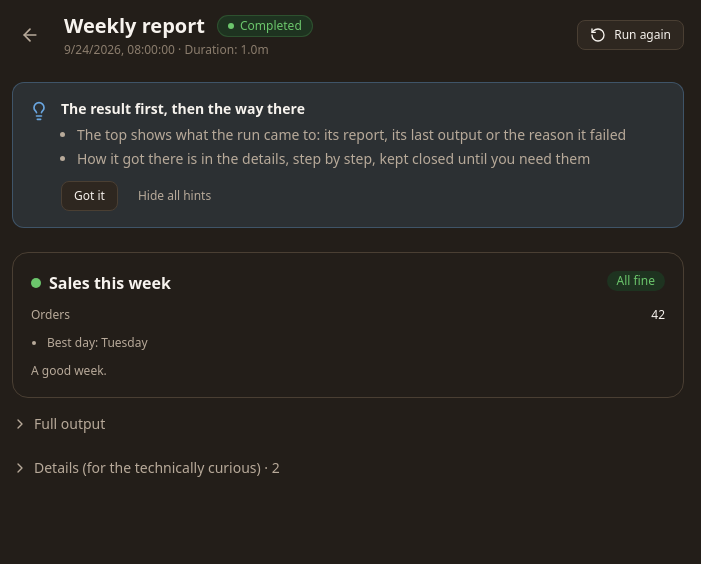
Test: SimpleWorkflowExecution › shows the report with a translated status and keeps the steps collapsed
The width and height of the screenshot is (701, 564).
Expected: the text "Sales this week" is shown, top-left (31, 271), bottom-right (171, 295)
Expected: the text "All fine" is shown, top-left (607, 271), bottom-right (665, 291)
Click the button "Full output". click: (59, 424)
box: top-left (12, 414), bottom-right (105, 434)
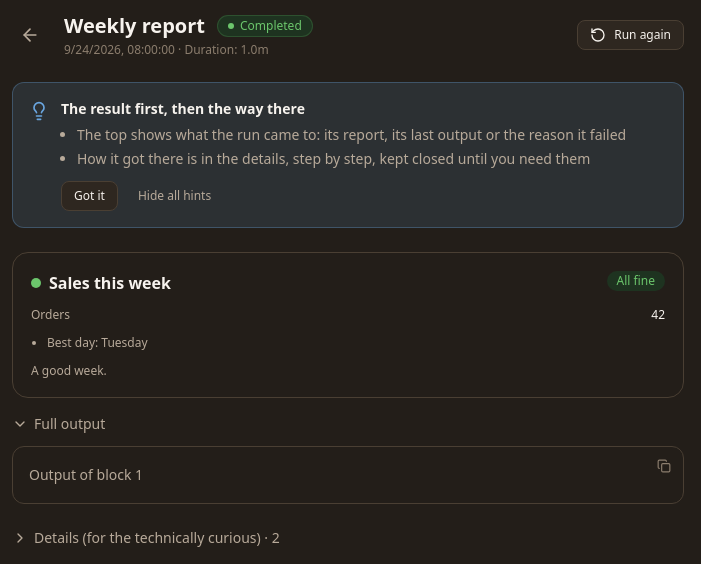
Expected: the element with test id "run-result-output" reads "Output of block 1", top-left (29, 465), bottom-right (143, 484)
